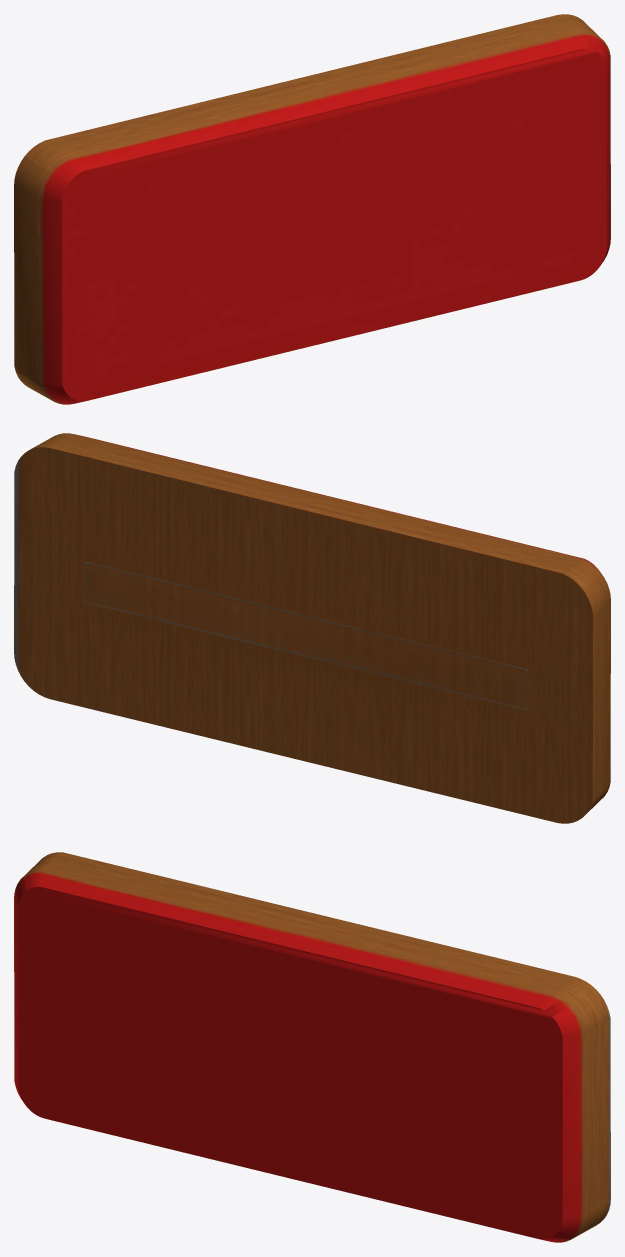
Rendered from backrest__back_pad.glb.
3 views of the same model, one above another, from view 1: azimuth 30°, elevation 25°; view 2: azimuth 150°, elevation 25°; view 3: azimuth 330°, elevation 25° (orthographic).
Parts seen in each view (by area): view 1: geometry_0; view 2: geometry_0; view 3: geometry_0.
Part boxes in pixels (box(x1,y1,x2,y2)): geometry_0: box(14, 14, 610, 404); geometry_0: box(14, 433, 610, 823); geometry_0: box(14, 852, 610, 1242).
Bounding box in the file's own units: 0.76 × 0.315 × 0.07.
1 material, 1 textured.
